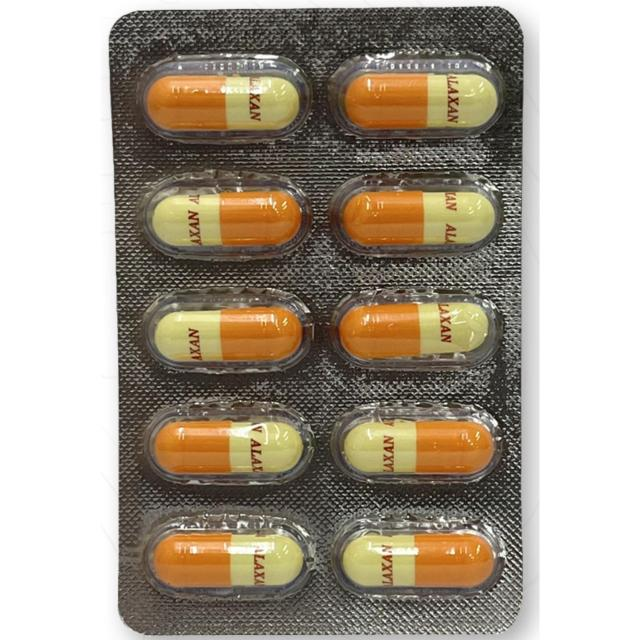blister: (106, 4, 528, 636)
